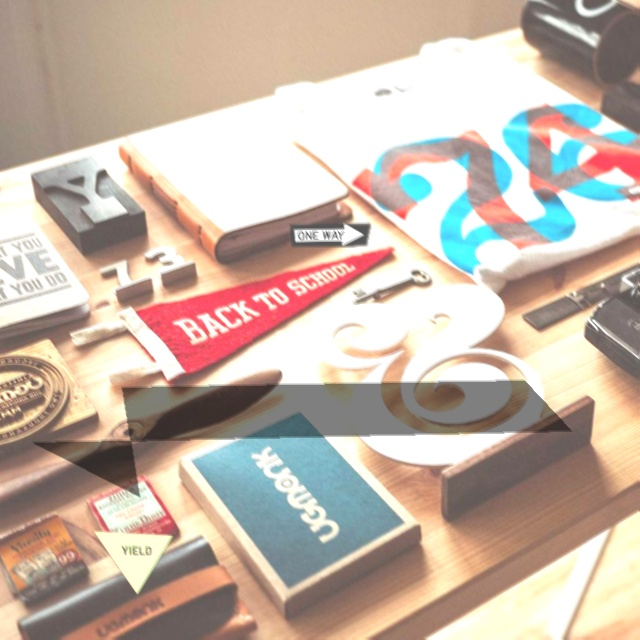ONE_WAY_ right: (290, 223, 372, 248)
YIELD: (93, 531, 175, 596)
